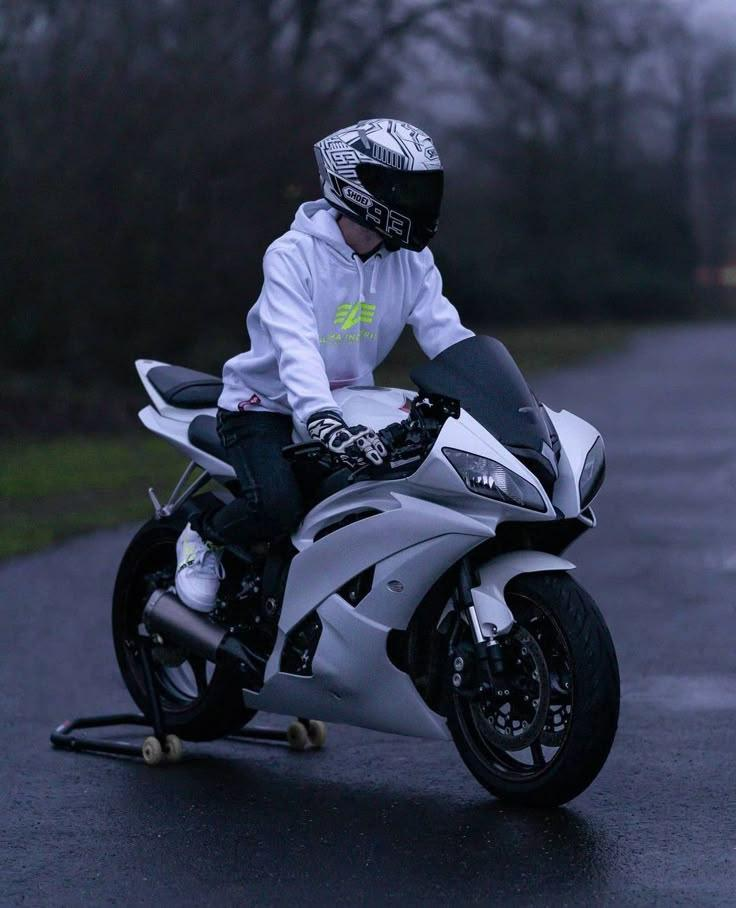Helmet: (314, 118, 443, 252)
